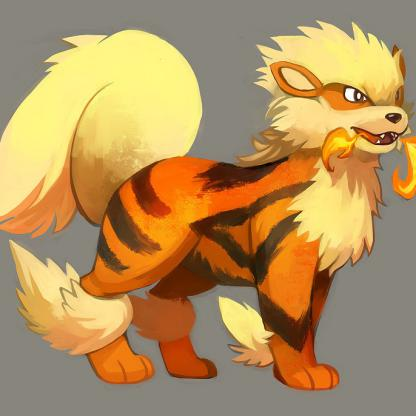Arcanine: (3, 33, 416, 391)
